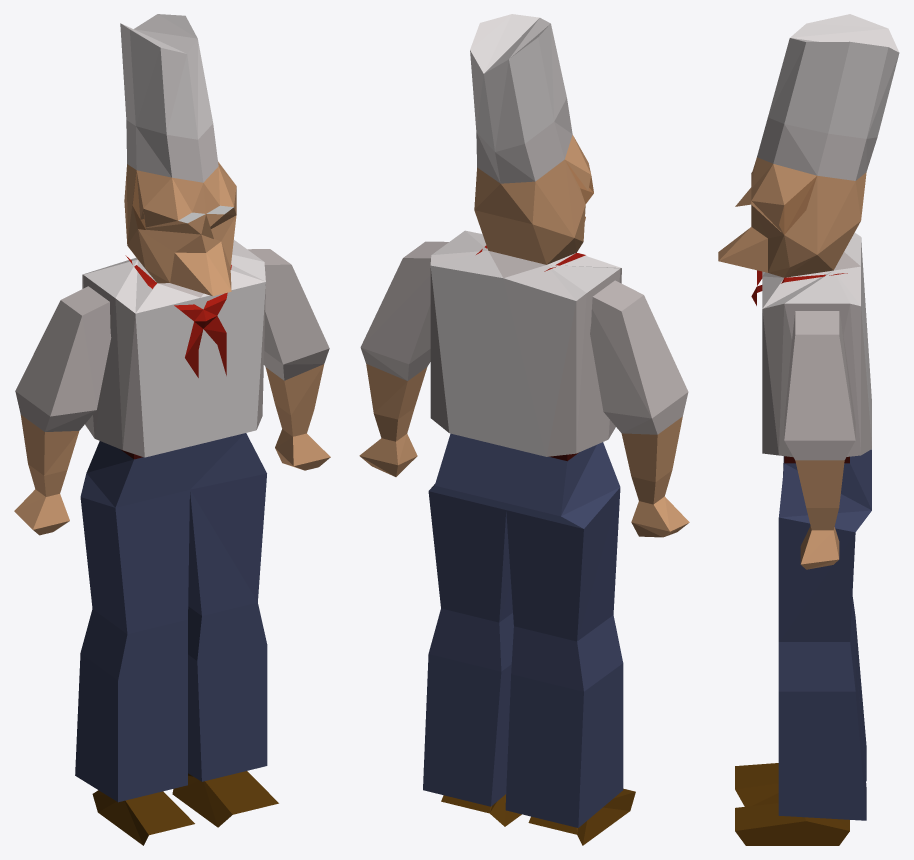
File: gnome-restaurant.gltf
3 renders of one model, left to right at view 1: azimuth 30°, elevation 25°; view 2: azimuth 150°, elevation 25°; view 3: azimuth 270°, elevation 25°, orthographic. The views are drawn at different scales.
Bounding box in the file's own units: 64 × 158 × 33.
Materials: 1 (1 with a texture image).
